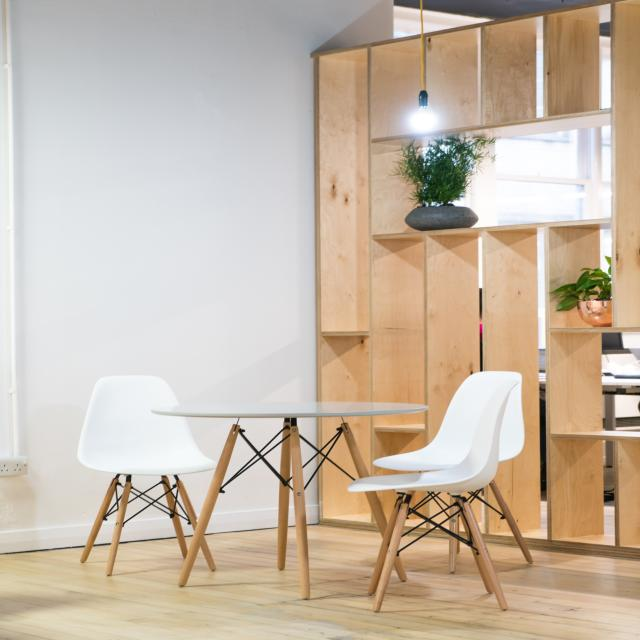floor: (0, 524, 640, 640), (398, 534, 421, 551), (604, 500, 615, 535), (540, 489, 547, 528), (184, 536, 193, 551), (481, 503, 484, 524), (481, 491, 484, 499)
